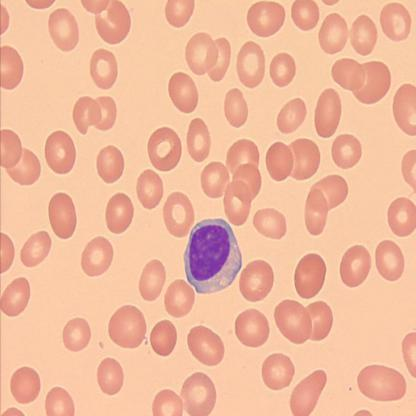Atypical lymphocyte: (185, 220, 241, 296)
